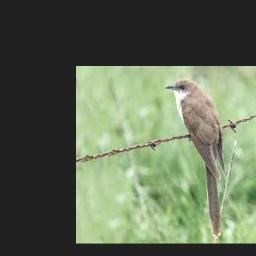Cuckoo: (164, 78, 225, 239)
